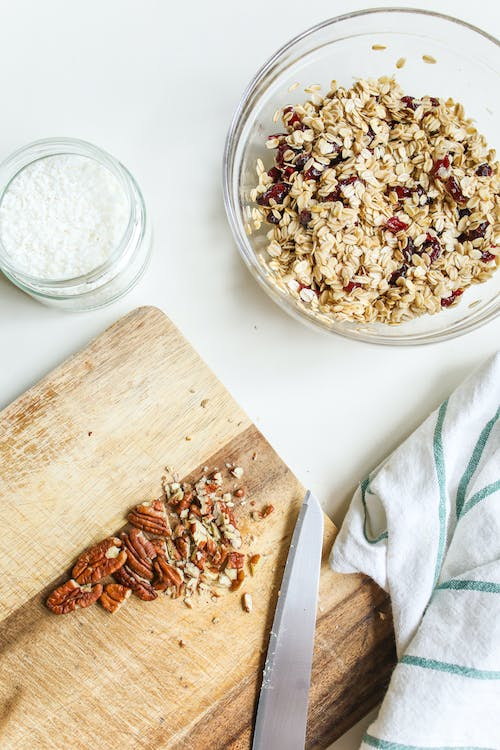knife: (249, 487, 325, 750)
